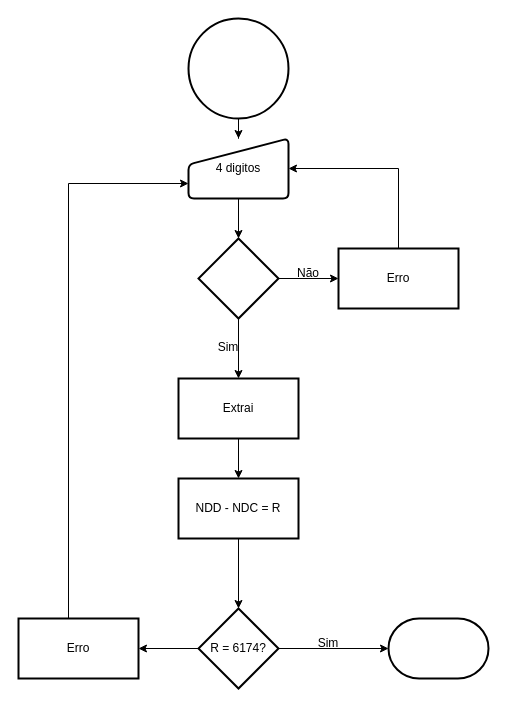
Image size: 506x706. Some labels were removed from this diagram. The shapes that lost their labels are listed below. From the top down, each one's centre as x and y in pixels, then its label:
the point at 238,68: Constante de Kaprekar
the point at 238,278: Válidos:
the point at 438,648: FIM
